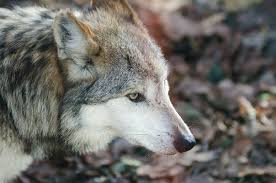Lobo: (31, 2, 202, 183)
